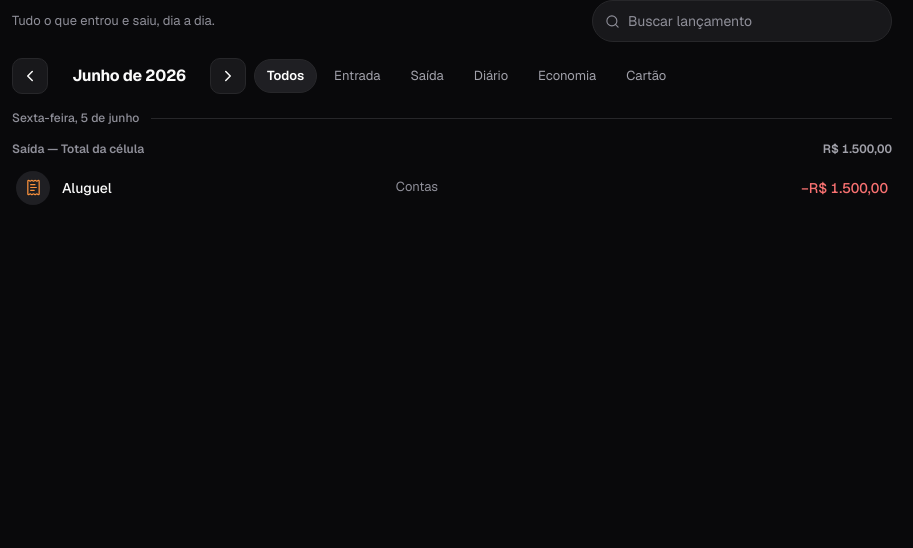
Test: Obrigações recorrentes (plano 069) › o painel de marcação mostra a contagem da prévia antes de salvar
The width and height of the screenshot is (913, 548).
Step 1. Click the button "Aluguel Contas −R$ 1.500,00" → (33, 188), box 12,163 -> 892,213
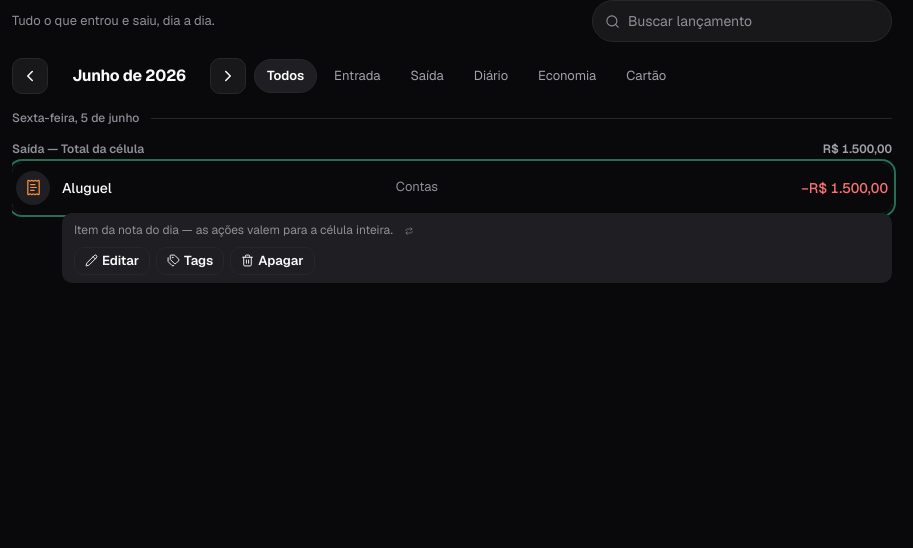
Step 2. Click the button named "Marcar \"Aluguel\" como obrigação recorrente" → (409, 231), box 399,221 -> 419,241
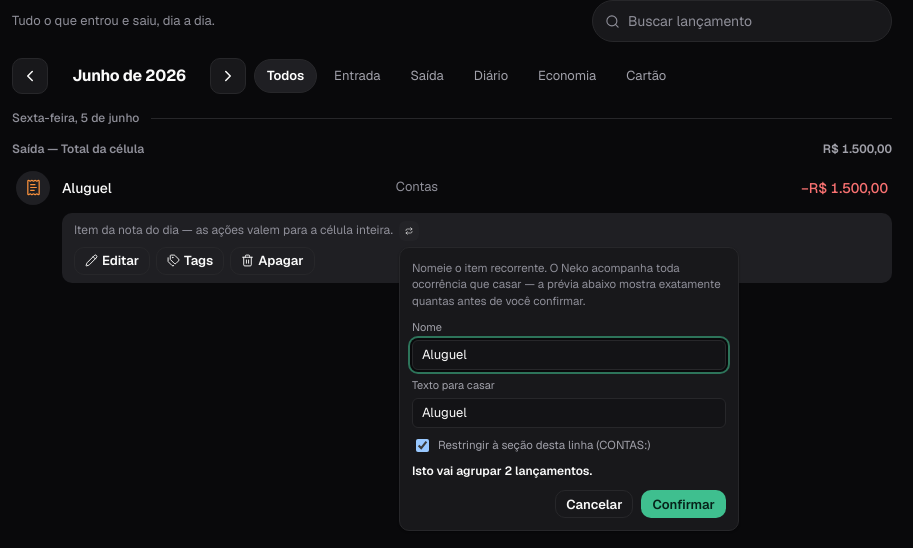
Expected: the text "Isto vai agrupar 2 lançamentos." is shown, 412,463 -> 592,479
Expected: the button "Confirmar" is shown, 642,490 -> 726,518
